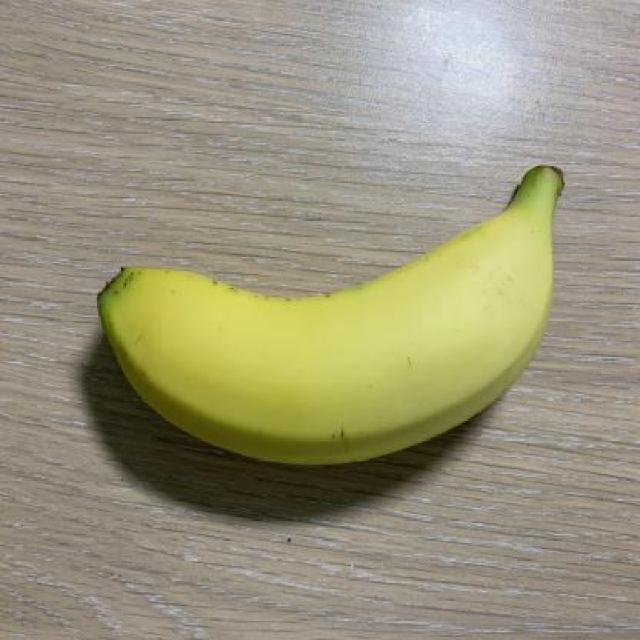Banana: (90, 140, 576, 476)
